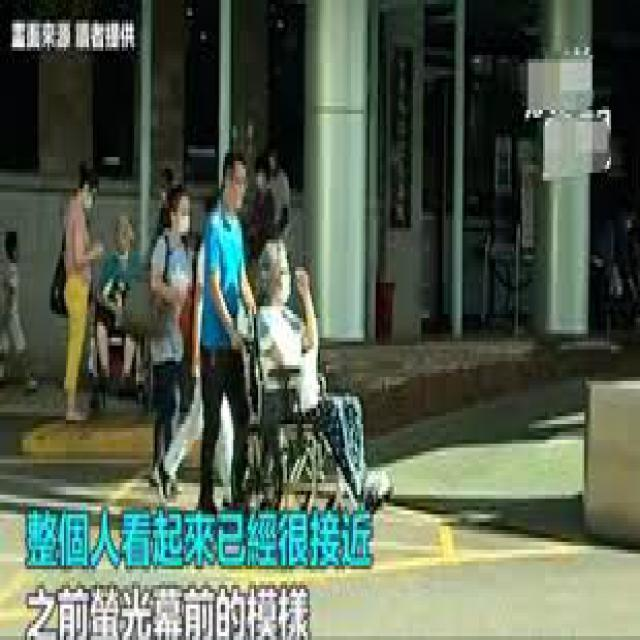wheelchairs: (231, 286, 380, 506)
